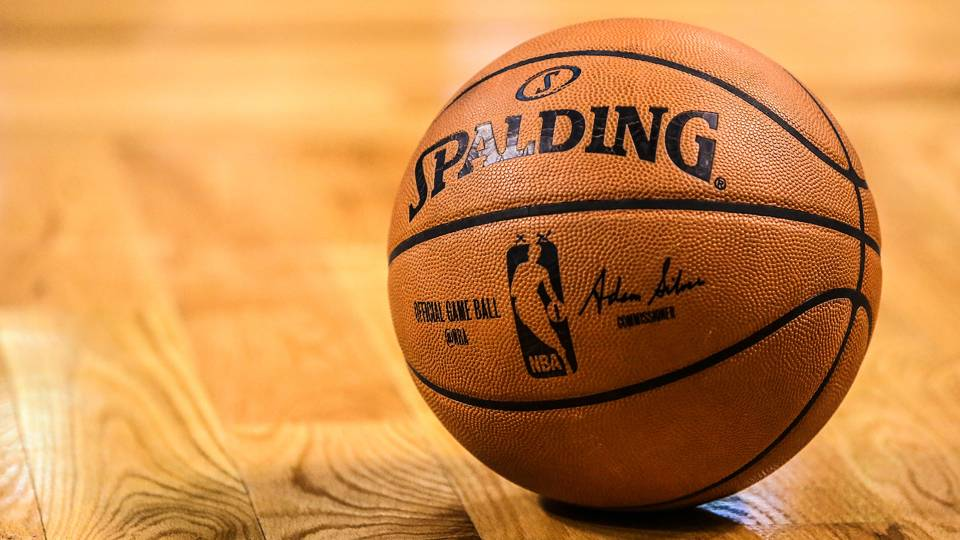Basketball: (376, 13, 889, 513)
